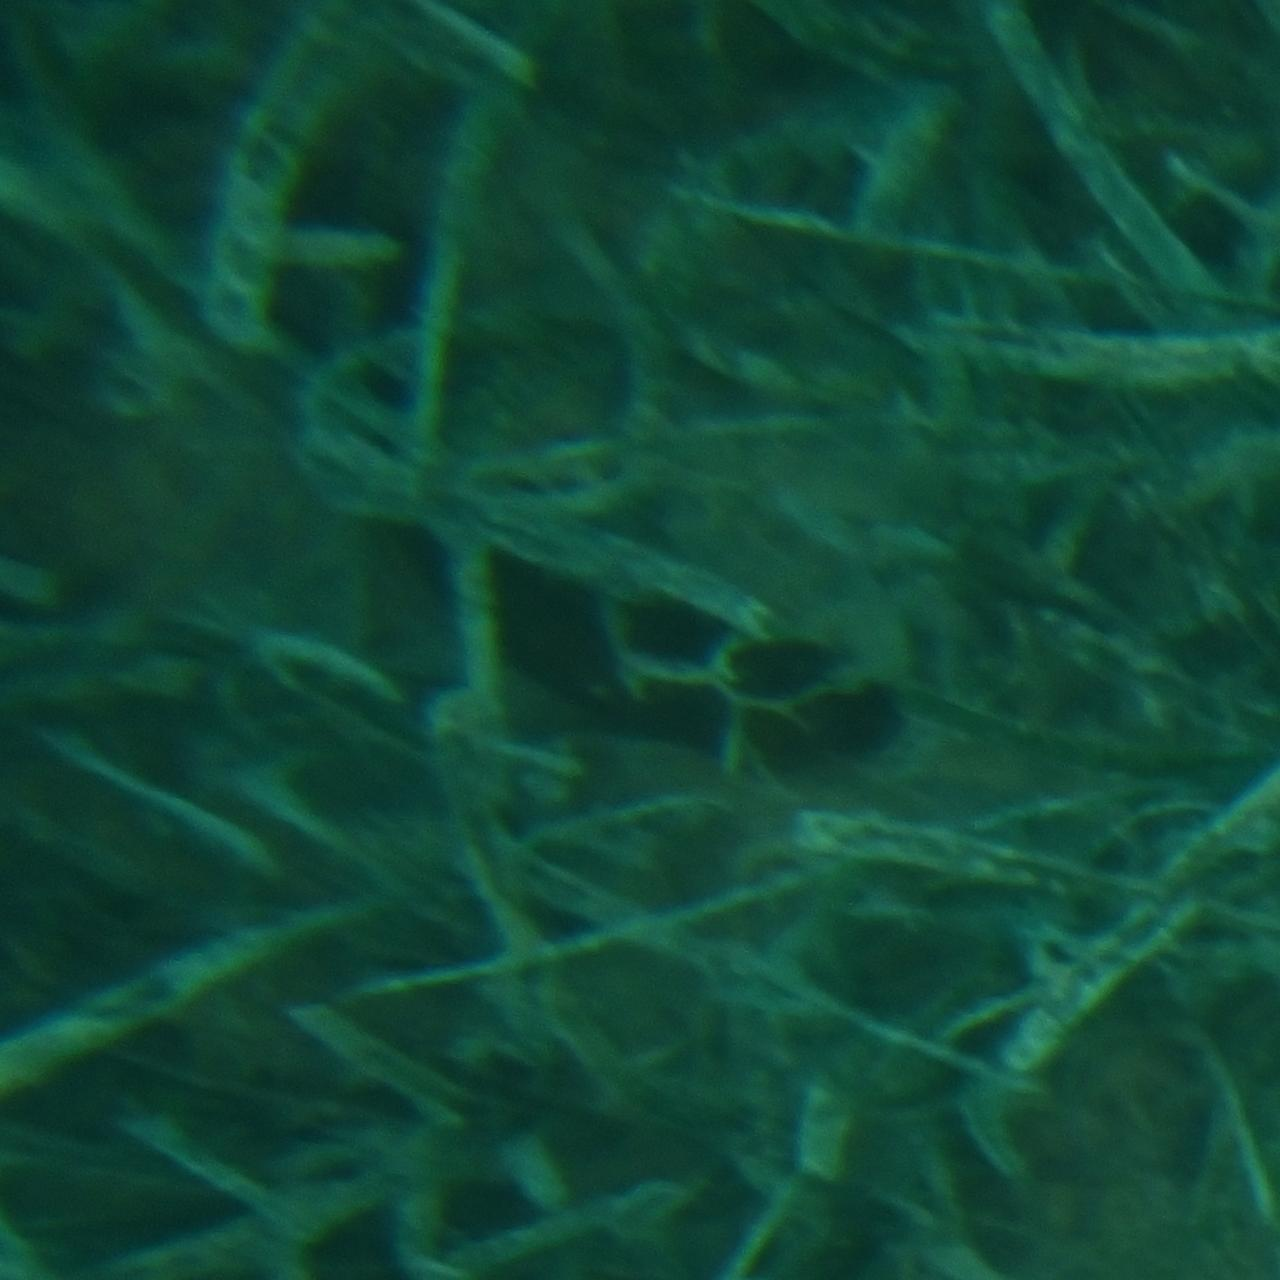Holothuria tubulosa: (382, 496, 898, 784)
